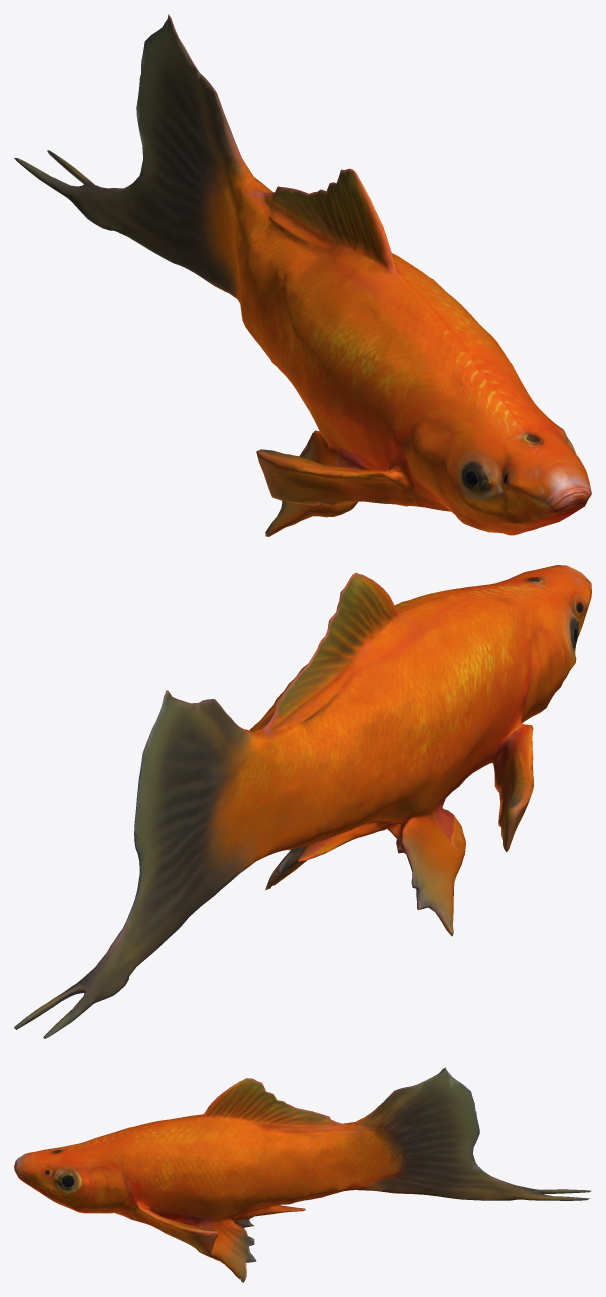
File: platy_pedang_0604072746_texture.glb
3 renders of one model, top to bottom at view 1: azimuth 30°, elevation 25°; view 2: azimuth 150°, elevation 25°; view 3: azimuth 270°, elevation 25°, orthographic. The views are drawn at different scales.
Size of the model in its own units: 0.5519 by 0.7301 by 1.99.
Materials: 1 (1 with a texture image).
